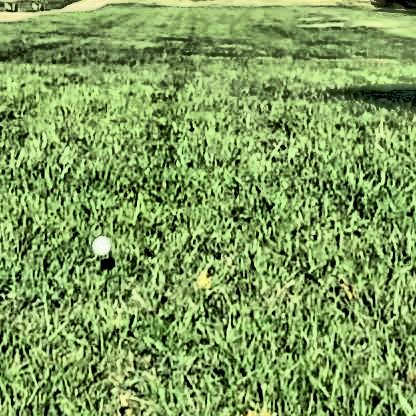golfball: (89, 232, 108, 251)
